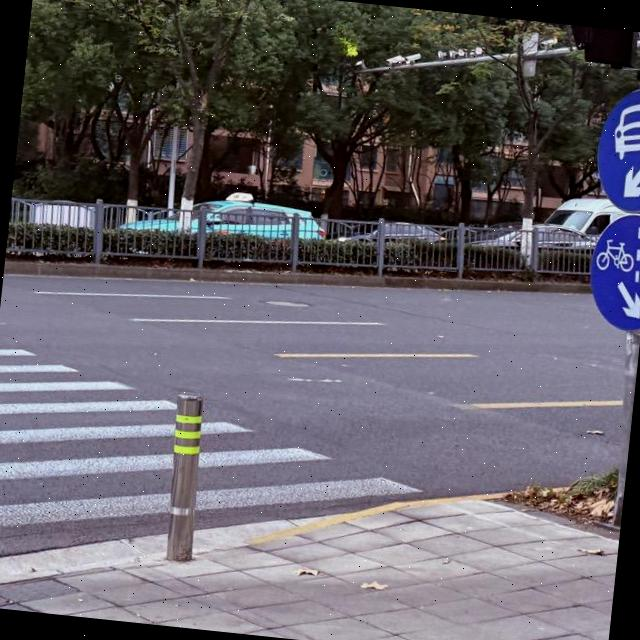curb: (3, 260, 589, 296), (247, 494, 508, 546)
